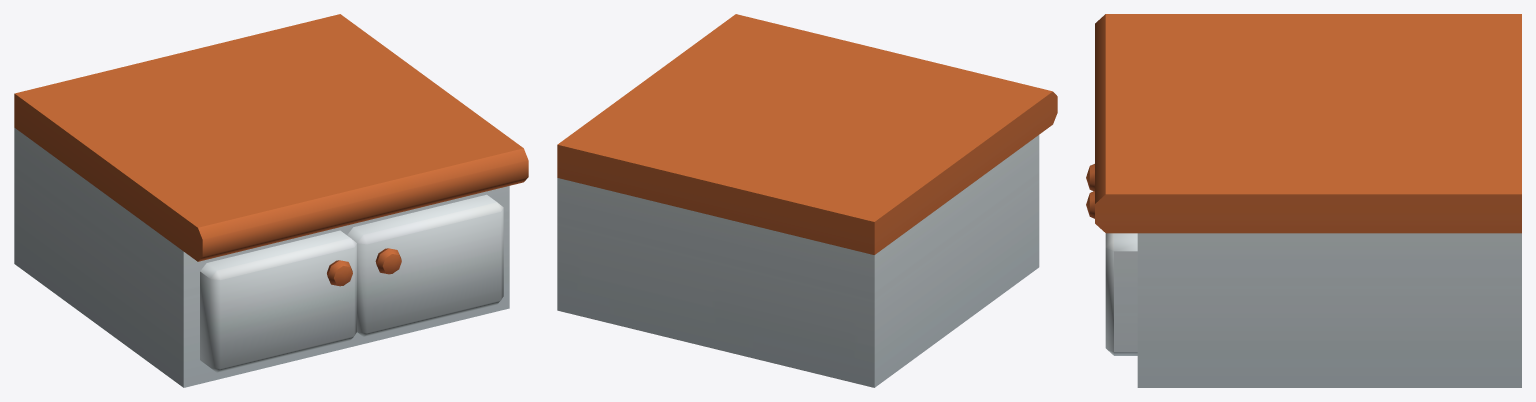
The model's file is kitchencounter_straight_B.glb.
3 views of the same model, side by side, from view 1: azimuth 30°, elevation 25°; view 2: azimuth 150°, elevation 25°; view 3: azimuth 270°, elevation 25° (orthographic). The views are drawn at different scales.
Visible parts, largest first — view 1: kitchencounter_straight_B; view 2: kitchencounter_straight_B; view 3: kitchencounter_straight_B.
Part boxes in pixels (left/top/right/bottom): kitchencounter_straight_B: left=14, top=14, right=528, bottom=387; kitchencounter_straight_B: left=557, top=14, right=1057, bottom=387; kitchencounter_straight_B: left=1086, top=14, right=1521, bottom=387.
Size of the model in its own units: 2 by 1 by 2.04.
1 material, 1 textured.
